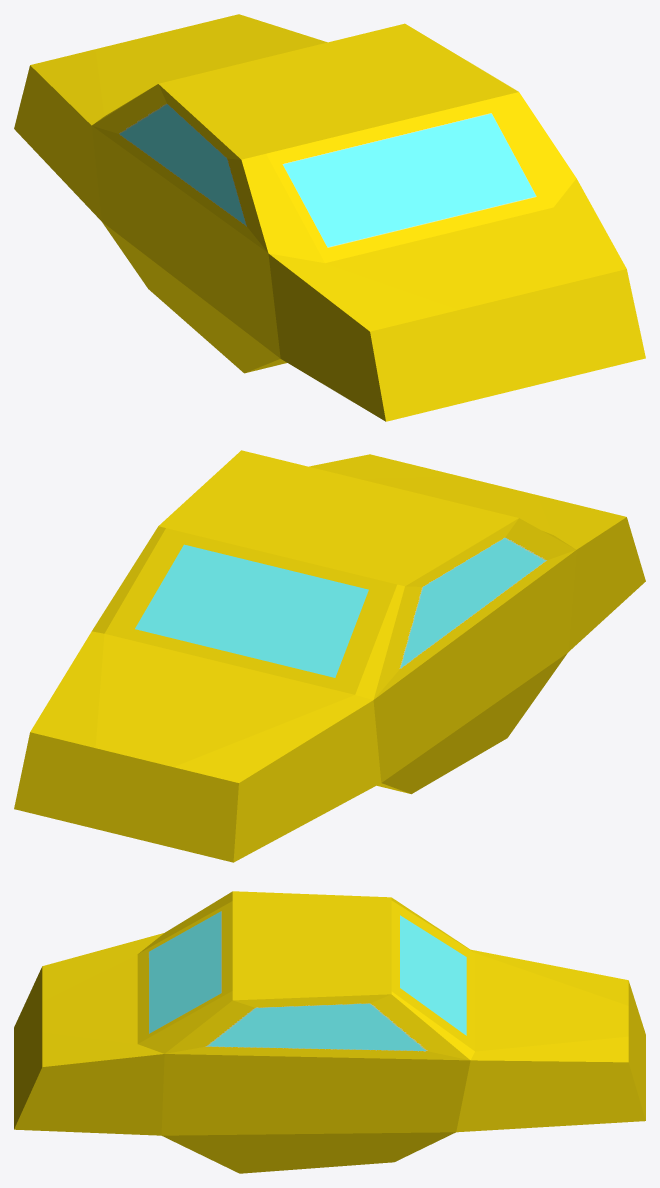
File: MORE_LOW_POLY_CAR.fbx
3 renders of one model, top to bottom at view 1: azimuth 30°, elevation 25°; view 2: azimuth 150°, elevation 25°; view 3: azimuth 270°, elevation 25°, orthographic. The views are drawn at different scales.
Parts seen in each view (by area): view 1: Cube; view 2: Cube; view 3: Cube.
Part boxes in pixels (left/top/right/bottom): Cube: left=14, top=14, right=645, bottom=421; Cube: left=14, top=450, right=645, bottom=862; Cube: left=14, top=891, right=645, bottom=1173.
Bounding box in the file's own units: 315 × 214 × 695.
1 material, 1 textured.
